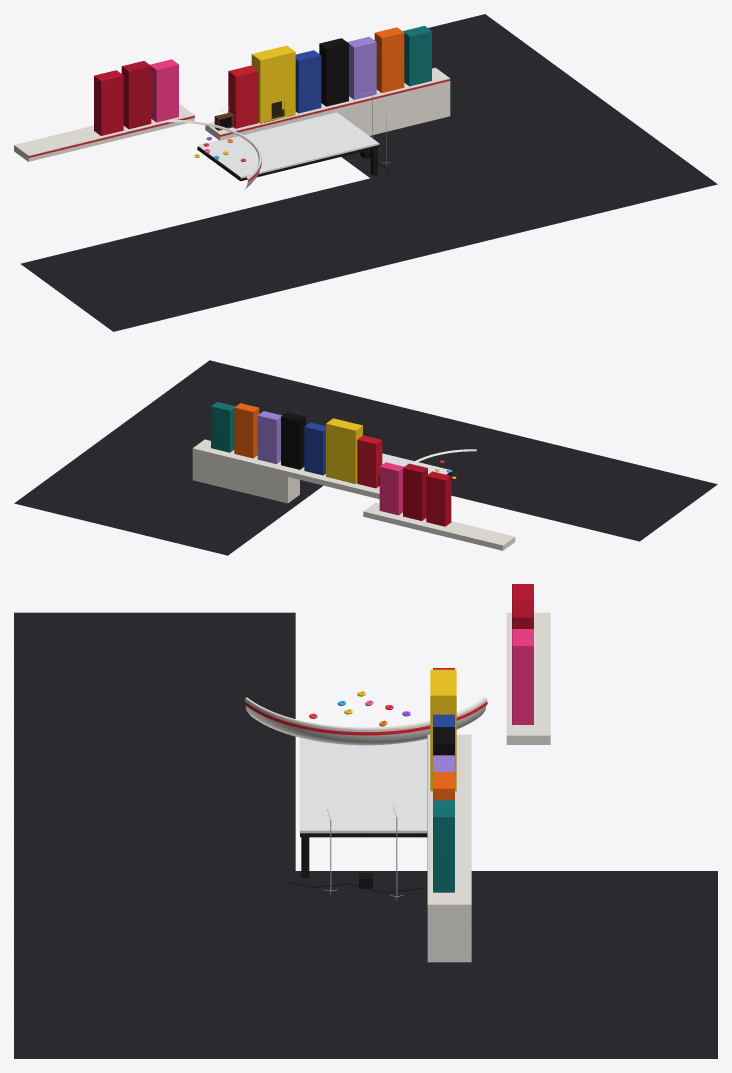
The model's file is try-me-free.glb.
3 views of the same model, one above another, from view 1: azimuth 30°, elevation 25°; view 2: azimuth 150°, elevation 25°; view 3: azimuth 270°, elevation 25° (orthographic). The views are drawn at different scales.
Parts seen in each view (by area): view 1: set.studio_floor.nocast, set.riser_card, set.tile_floor.mirror.nocast, herobox.hero_box, box_rpd.box_rpd, box_ptsd.box_ptsd, box_msayf.box_msayf, box_stc.box_stc, box_ppg.box_ppg, box_kmlacc.box_kmlacc, box_rent.box_rent, box_ifyd.box_ifyd (+3 smaller); view 2: set.studio_floor.nocast, set.riser_card, herobox.hero_box, box_ptsd.box_ptsd, box_msayf.box_msayf, box_rpd.box_rpd, box_stc.box_stc, box_ppg.box_ppg, box_kmlacc.box_kmlacc, box_rent.box_rent, box_lake.box_lake, box_ifyd.box_ifyd (+1 smaller); view 3: set.studio_floor.nocast, set.tile_floor.mirror.nocast, set.riser_card, set.bowl_glaze, box_kmlacc.box_kmlacc, box_lake.box_lake, herobox.hero_box, set.table_under, set.bowl_band.
Boxes of the visible parts, bbox=[...] form: set.studio_floor.nocast: bbox=[20, 14, 717, 331]; set.riser_card: bbox=[14, 67, 450, 161]; set.tile_floor.mirror.nocast: bbox=[197, 112, 378, 176]; herobox.hero_box: bbox=[251, 45, 295, 123]; box_rpd.box_rpd: bbox=[121, 61, 151, 129]; box_ptsd.box_ptsd: bbox=[94, 70, 123, 135]; box_msayf.box_msayf: bbox=[319, 38, 348, 106]; box_stc.box_stc: bbox=[374, 27, 404, 92]; box_ppg.box_ppg: bbox=[228, 65, 258, 128]; box_kmlacc.box_kmlacc: bbox=[150, 59, 178, 122]; box_rent.box_rent: bbox=[347, 36, 376, 99]; box_ifyd.box_ifyd: bbox=[295, 50, 321, 113]; set.studio_floor.nocast: bbox=[14, 360, 717, 555]; set.riser_card: bbox=[192, 439, 515, 550]; herobox.hero_box: bbox=[326, 418, 362, 483]; box_ptsd.box_ptsd: bbox=[426, 471, 451, 526]; box_msayf.box_msayf: bbox=[281, 412, 305, 469]; box_rpd.box_rpd: bbox=[403, 463, 427, 520]; box_stc.box_stc: bbox=[234, 403, 259, 458]; box_ppg.box_ppg: bbox=[357, 435, 382, 488]; box_kmlacc.box_kmlacc: bbox=[379, 462, 404, 515]; box_rent.box_rent: bbox=[257, 411, 281, 463]; box_lake.box_lake: bbox=[211, 402, 235, 452]; box_ifyd.box_ifyd: bbox=[304, 422, 325, 475]; set.studio_floor.nocast: bbox=[14, 612, 717, 1058]; set.tile_floor.mirror.nocast: bbox=[300, 738, 427, 830]; set.riser_card: bbox=[427, 612, 550, 962]; set.bowl_glaze: bbox=[244, 697, 487, 745]; box_kmlacc.box_kmlacc: bbox=[512, 629, 533, 724]; box_lake.box_lake: bbox=[433, 800, 454, 892]; herobox.hero_box: bbox=[430, 669, 456, 791]; set.table_under: bbox=[300, 833, 427, 877]; set.bowl_band: bbox=[244, 701, 487, 735].
Bounding box in the file's own units: 120 × 19.23 × 80.
30 materials, 4 textured.
